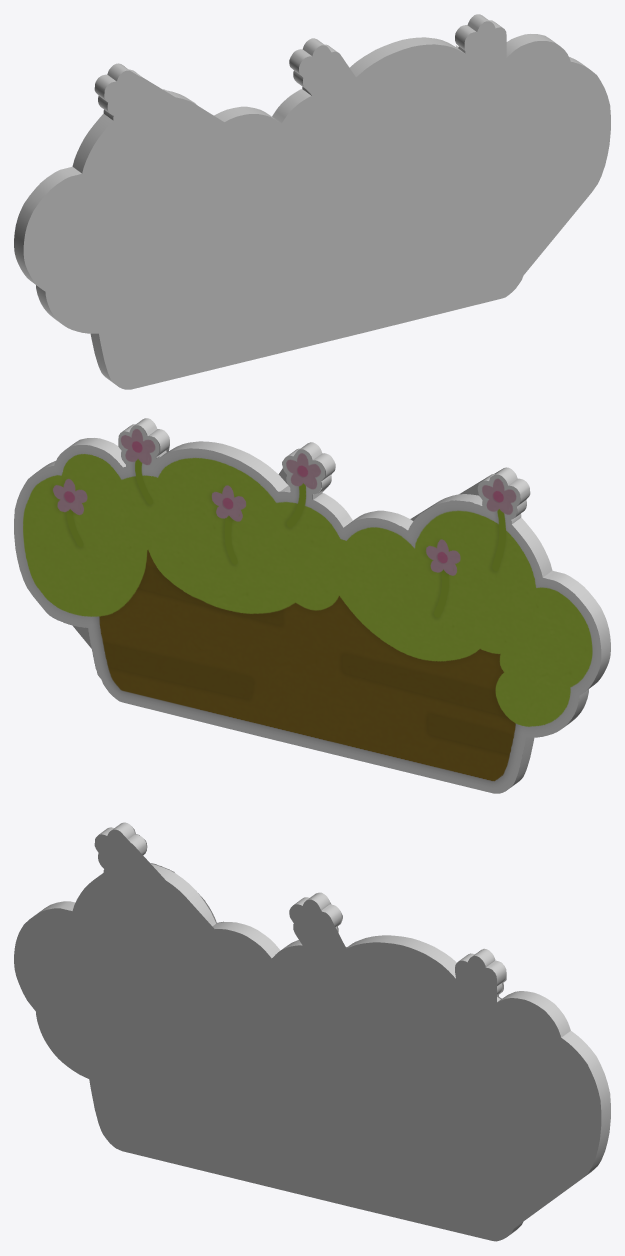
File: flowerBed.fbx
The picture shows the model from 3 angles, top to bottom: view 1: azimuth 30°, elevation 25°; view 2: azimuth 150°, elevation 25°; view 3: azimuth 330°, elevation 25°; orthographic projection.
Parts seen in each view (by area): view 1: Vert.027; view 2: Vert.027; view 3: Vert.027.
Part boxes in pixels (left/top/right/bottom): Vert.027: left=14, top=14, right=610, bottom=389; Vert.027: left=14, top=418, right=610, bottom=793; Vert.027: left=14, top=822, right=610, bottom=1241.
Bounding box in the file's own units: 350 × 182 × 9.94.
